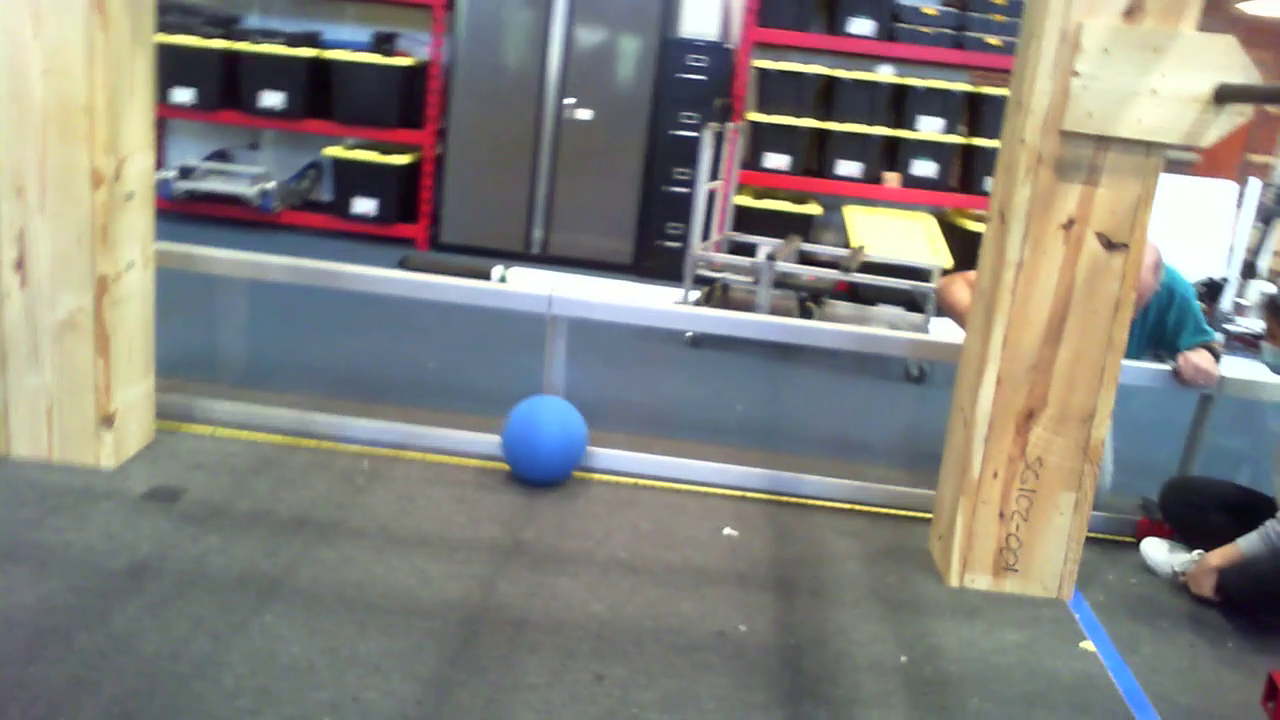blue_cargo: (492, 385, 589, 490)
